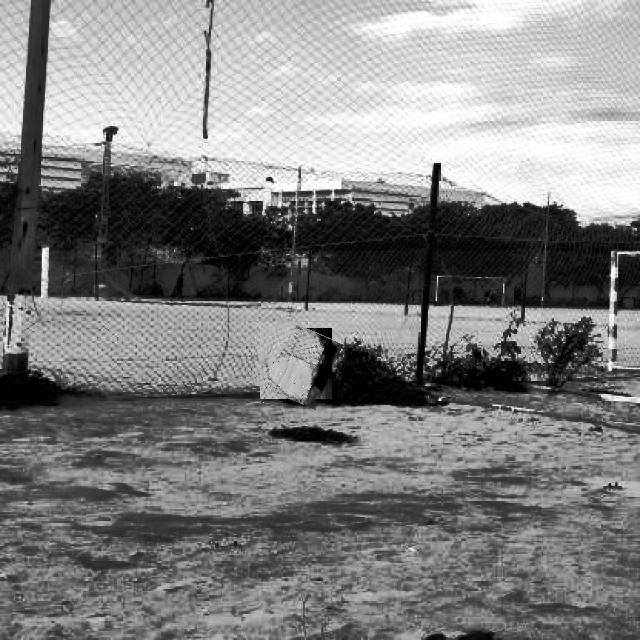anomaly-fence: (255, 322, 337, 404)
